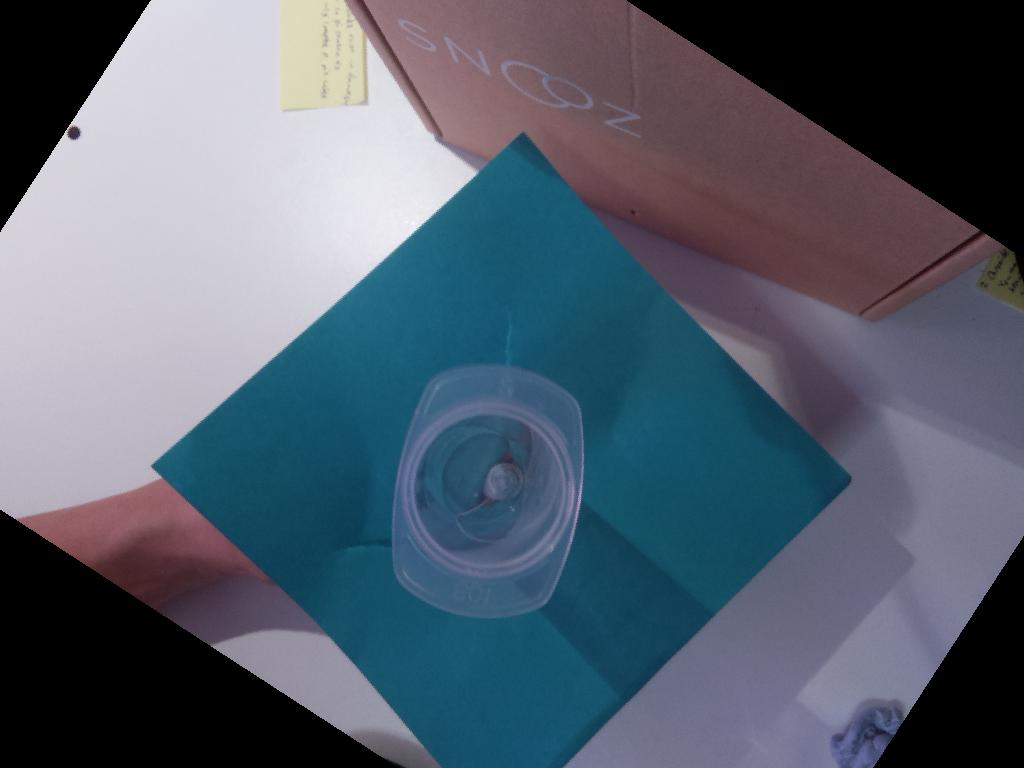clean: (391, 365, 584, 621)
